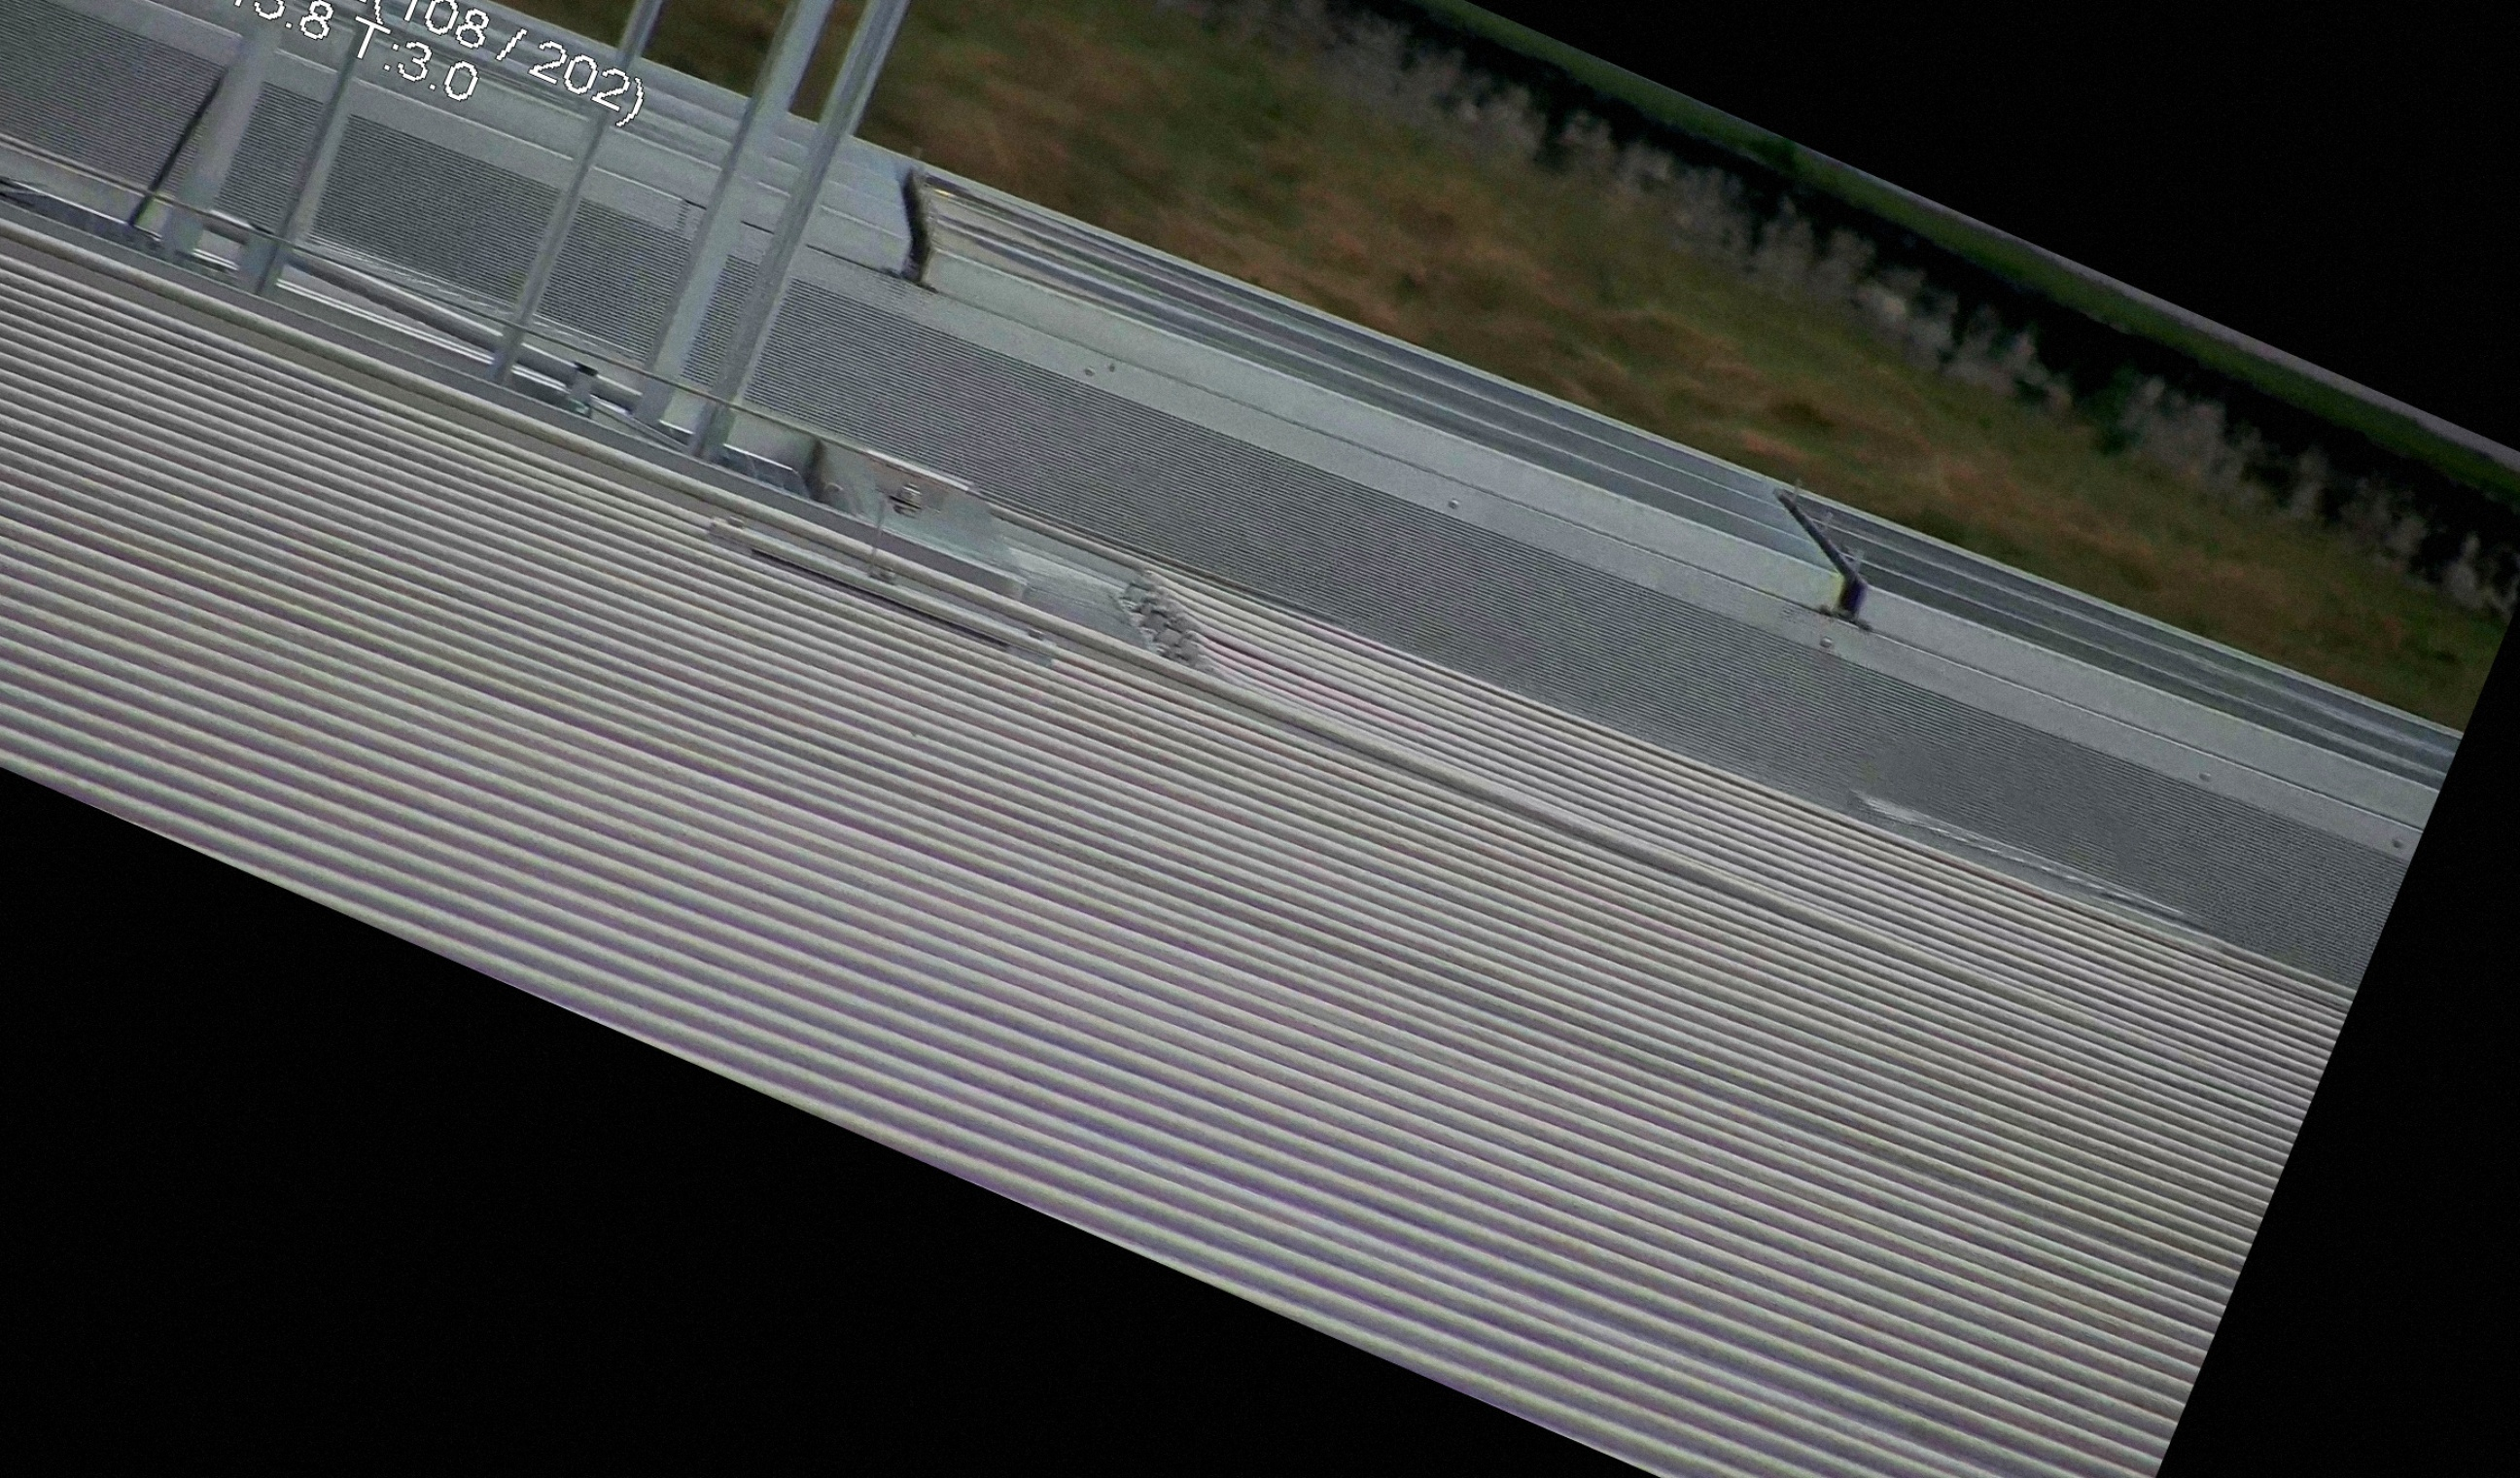Other: (849, 143, 981, 301)
